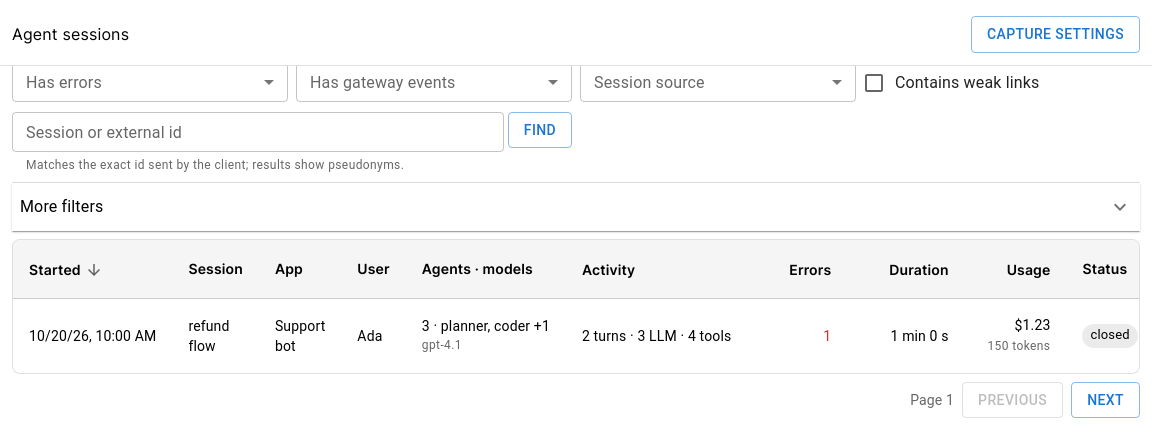
Test: AgentSessions › pages forward and back with the cursor
This screenshot has width=1152, height=435.
Expected: the text "refund flow" is shown, top-left (188, 318), bottom-right (230, 354)
What coordinates should you click on to do the following:
click the button "Next"
I would click on:
 (1106, 400)
Its box is top-left (1071, 382), bottom-right (1140, 418).
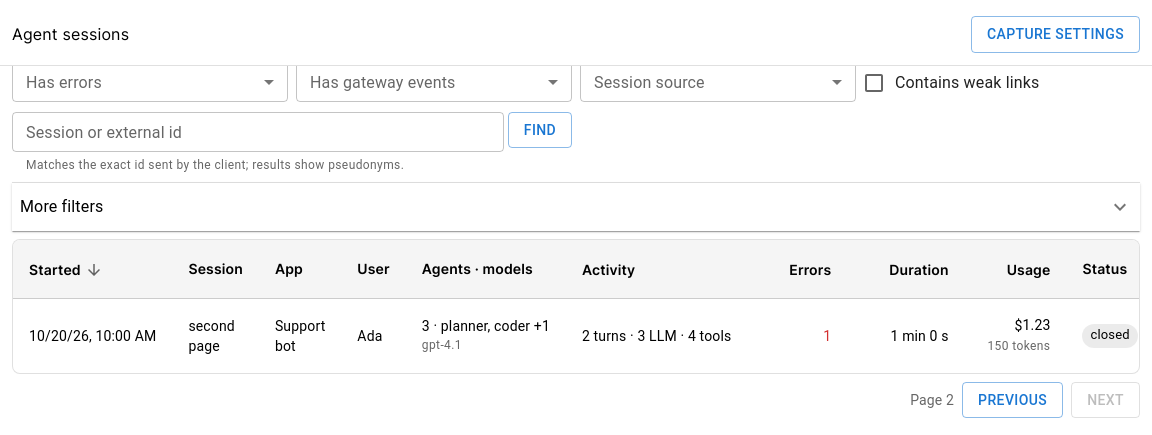
Expected: the text "second page" is shown, top-left (188, 316), bottom-right (243, 356)
Expected: the button "Next" is disabled, top-left (1071, 382), bottom-right (1140, 418)
What coordinates should you click on to do the following:
click the button "Previous"
I would click on:
 (1013, 400)
Its box is top-left (962, 382), bottom-right (1063, 418).
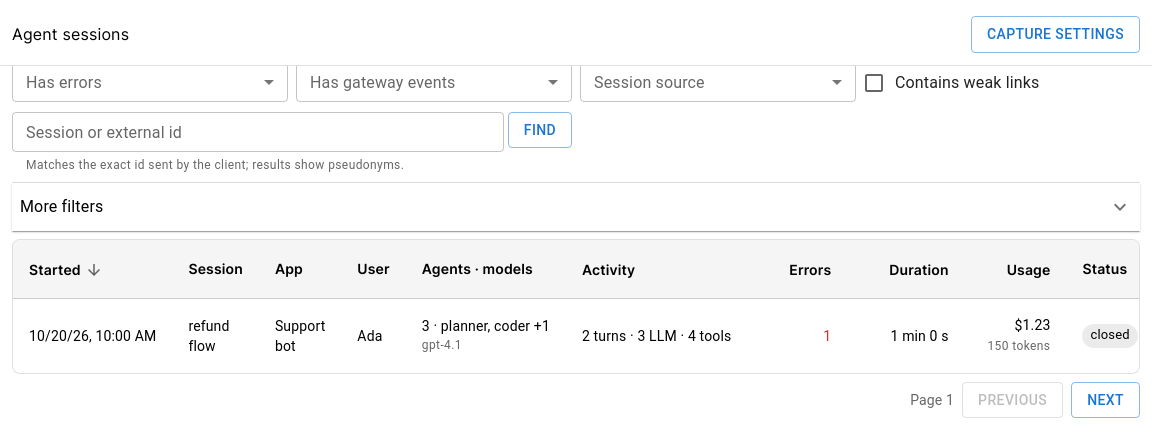
Expected: the text "refund flow" is shown, top-left (188, 318), bottom-right (230, 354)
Expected: the button "Previous" is disabled, top-left (962, 382), bottom-right (1063, 418)
